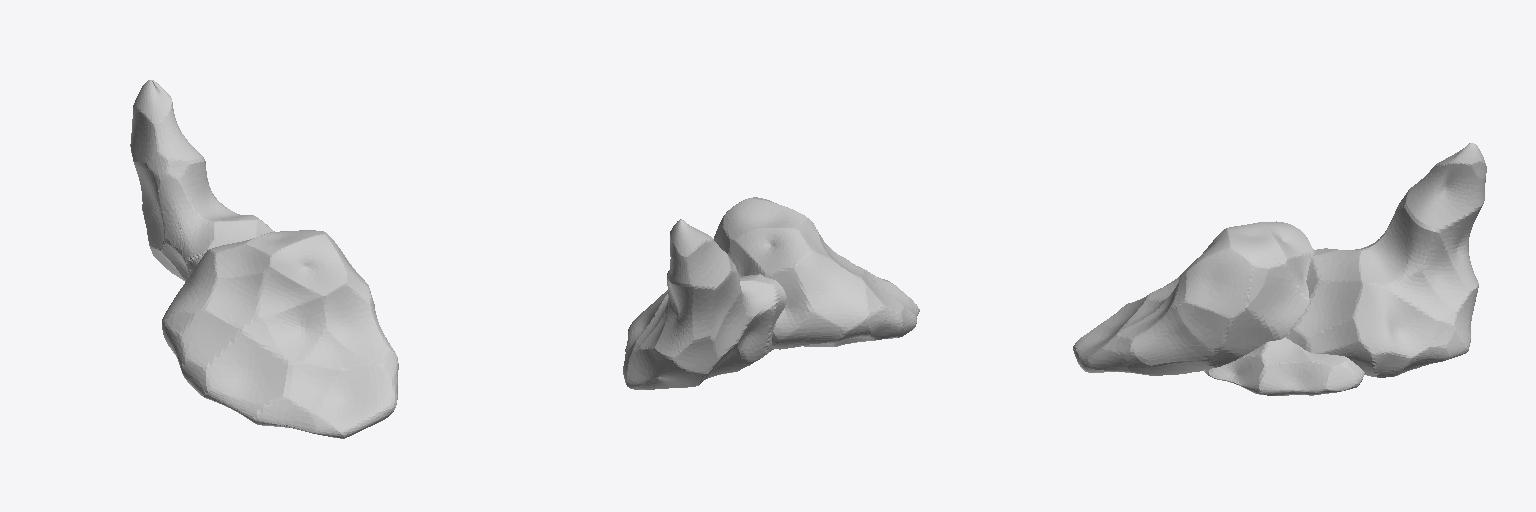
The model's file is pedra.2.obj.
The picture shows the model from 3 angles: view 1: azimuth 30°, elevation 25°; view 2: azimuth 150°, elevation 25°; view 3: azimuth 270°, elevation 25°; orthographic projection.
Visible parts, largest first — view 1: Cube.002; view 2: Cube.002; view 3: Cube.002.
Boxes of the visible parts, <box> form: Cube.002: <box>130,80,398,438</box>; Cube.002: <box>623,197,919,389</box>; Cube.002: <box>1073,143,1486,395</box>.
Bounding box in the file's own units: 5.08 × 5.06 × 8.74.